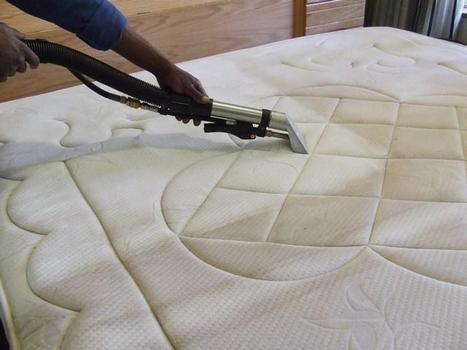Bed-Mattress: (0, 27, 467, 349)
